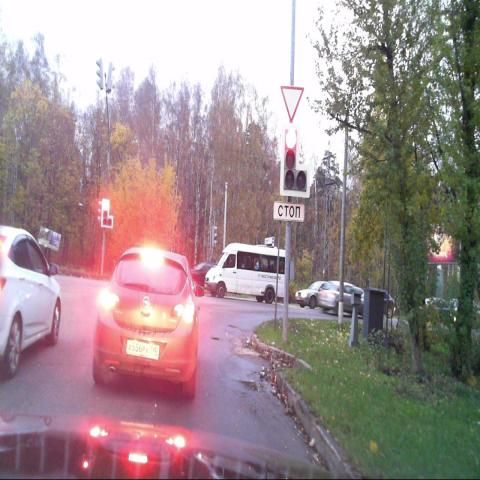6_16: (274, 202, 304, 223)
